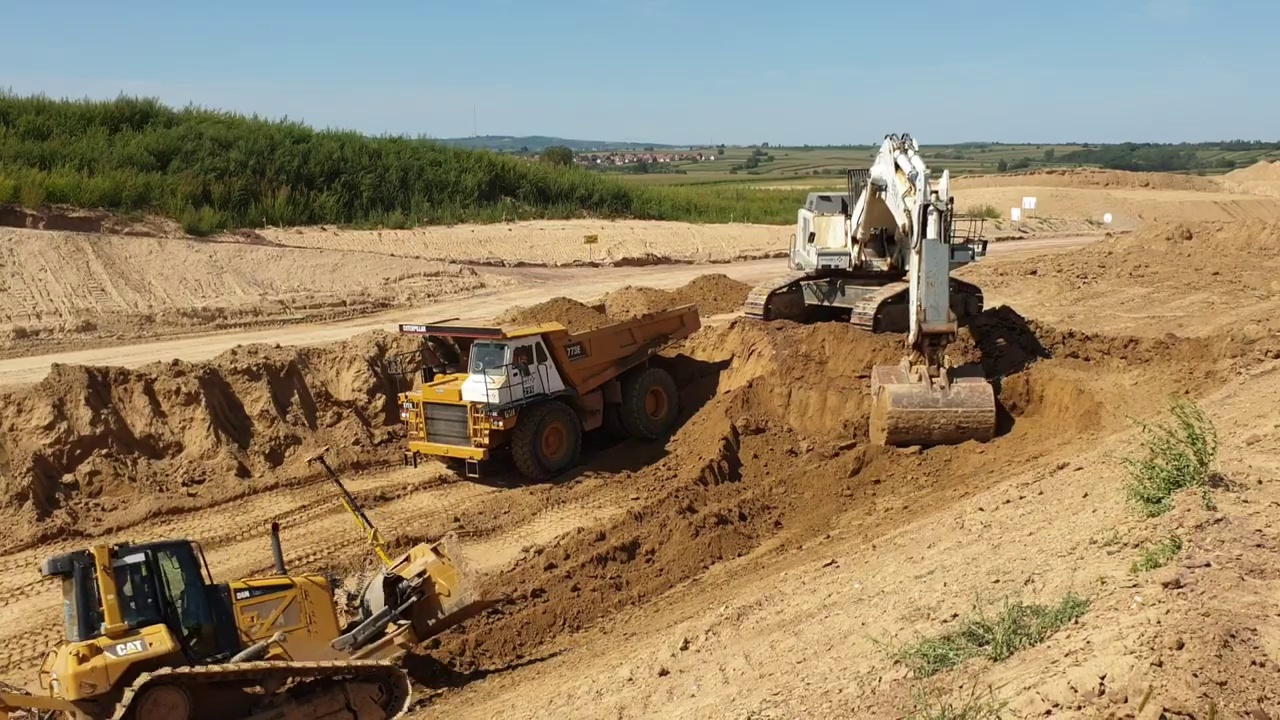bulldozer: (4, 423, 481, 720)
excavator: (742, 127, 1022, 455)
truck: (391, 300, 709, 490)
